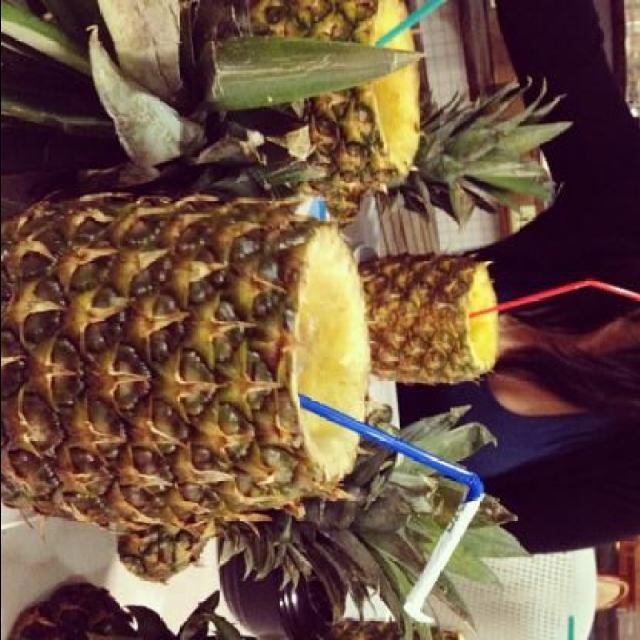Pineapple: (1, 192, 372, 534), (212, 0, 426, 212), (358, 255, 502, 387), (114, 522, 226, 586)
